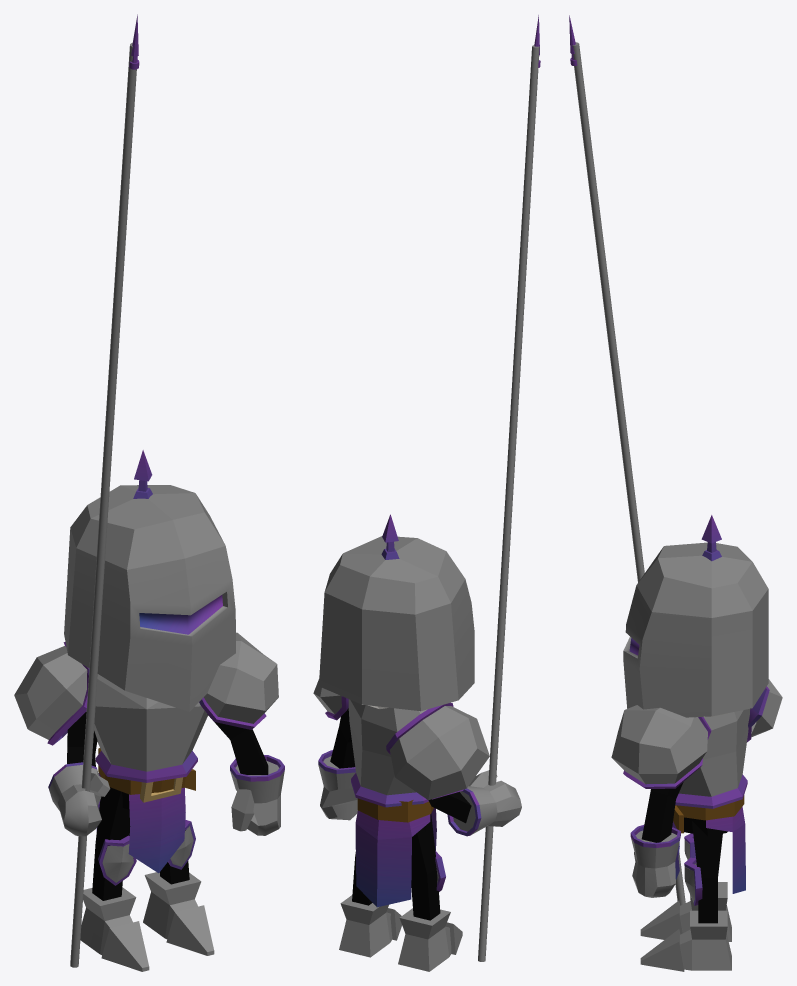
The model's file is spearman_purplegradient.glb.
3 views of the same model, side by side, from view 1: azimuth 30°, elevation 25°; view 2: azimuth 150°, elevation 25°; view 3: azimuth 270°, elevation 25° (orthographic). The views are drawn at different scales.
Parts seen in each view (by area): view 1: Soldier_33_PG_Mat07_0, Soldier_33_Ferro03_Mat_0, Soldier_33_PG_Mat01_0, Soldier_33_PG_Mat07_0.003, Soldier_33_PG_Mat07_0.004, Soldier_33_Stendardi_Mat1_0, Soldier_33_Gold_01_Mat_0, Soldier_33_PG_Mat07_0.001, Soldier_33_PG_Mat07_0.002, Soldier_33_PG_Mat04_0; view 2: Soldier_33_PG_Mat07_0, Soldier_33_Ferro03_Mat_0, Soldier_33_PG_Mat07_0.003, Soldier_33_Stendardi_Mat1_0, Soldier_33_PG_Mat01_0, Soldier_33_PG_Mat07_0.001, Soldier_33_Gold_01_Mat_0, Soldier_33_PG_Mat07_0.002, Soldier_33_PG_Mat04_0, Soldier_33_Gold_01_Mat_0.004, Soldier_33_PG_Mat07_0.004; view 3: Soldier_33_PG_Mat07_0, Soldier_33_PG_Mat07_0.004, Soldier_33_Ferro03_Mat_0, Soldier_33_PG_Mat01_0, Soldier_33_Gold_01_Mat_0, Soldier_33_PG_Mat07_0.002, Soldier_33_Stendardi_Mat1_0, Soldier_33_PG_Mat04_0, Soldier_33_PG_Mat07_0.003, Soldier_33_Gold_01_Mat_0.003.
Part boxes in pixels (x1,y1,x2,y2): Soldier_33_PG_Mat07_0: (64,485,235,971); Soldier_33_Ferro03_Mat_0: (70,43,136,967); Soldier_33_PG_Mat01_0: (67,712,268,900); Soldier_33_PG_Mat07_0.003: (14,646,87,739); Soldier_33_PG_Mat07_0.004: (204,632,278,723); Soldier_33_Stendardi_Mat1_0: (96,773,185,873); Soldier_33_Gold_01_Mat_0: (95,14,197,885); Soldier_33_PG_Mat07_0.001: (49,765,110,836); Soldier_33_PG_Mat07_0.002: (230,760,284,835); Soldier_33_PG_Mat04_0: (98,748,195,794); Soldier_33_PG_Mat07_0: (319,536,474,971); Soldier_33_Ferro03_Mat_0: (478,45,539,961); Soldier_33_PG_Mat07_0.003: (390,706,489,800); Soldier_33_Stendardi_Mat1_0: (355,808,436,907); Soldier_33_PG_Mat01_0: (330,708,471,920); Soldier_33_PG_Mat07_0.001: (453,770,521,834); Soldier_33_Gold_01_Mat_0: (351,15,540,891); Soldier_33_PG_Mat07_0.002: (318,756,357,820); Soldier_33_PG_Mat04_0: (357,798,433,822); Soldier_33_Gold_01_Mat_0.004: (386,702,463,799); Soldier_33_PG_Mat07_0.004: (313,679,341,714); Soldier_33_PG_Mat07_0: (623,542,768,971); Soldier_33_PG_Mat07_0.004: (611,705,707,784); Soldier_33_Ferro03_Mat_0: (572,42,685,905); Soldier_33_PG_Mat01_0: (641,708,750,923); Soldier_33_Gold_01_Mat_0: (569,15,747,905); Soldier_33_PG_Mat07_0.002: (631,830,679,897); Soldier_33_Stendardi_Mat1_0: (672,806,745,893); Soldier_33_PG_Mat04_0: (673,795,744,833); Soldier_33_PG_Mat07_0.003: (751,679,782,737); Soldier_33_Gold_01_Mat_0.003: (623,717,711,788).
Size of the model in its own units: 0.9484 by 4.14 by 0.8897.
Materials: 1 (1 with a texture image).
